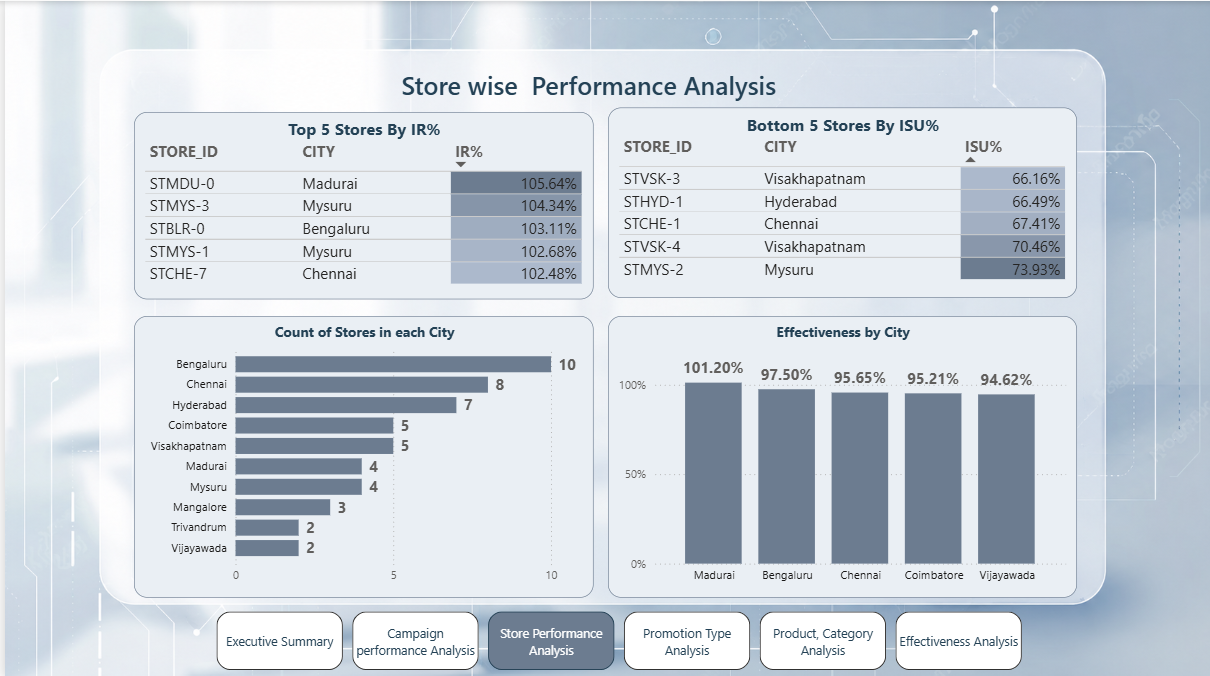

What the dashboard file says about the page in this screenshot:
{"tool":"powerbi","page":{"name":"Store Performance Analysis","canvas":[1280,720],"ordinal":2},"visuals":[{"type":"textbox","box":[211.6,47.7,822.3,65.2],"z":0},{"type":"tableEx","title":"Top 5 Stores By IR%","fields":{"Values":["DIM_STORES.STORE_ID","DIM_STORES.CITY","FACT_EVENTS.IR%"]},"box":[136,117.2,487.6,198.4],"z":1000},{"type":"clusteredBarChart","title":"Count of Stores in each City","fields":{"Category":["DIM_STORES.CITY"],"Y":["CountNonNull(DIM_STORES.STORE_ID)"]},"box":[136.1,334.5,487.6,298.6],"z":2000},{"type":"tableEx","title":" Bottom 5 Stores By ISU%","fields":{"Values":["DIM_STORES.STORE_ID","DIM_STORES.CITY","FACT_EVENTS.ISU%"]},"box":[638.7,113.4,497,202.2],"z":3000},{"type":"clusteredColumnChart","fields":{"Category":["DIM_STORES.CITY"],"Y":["FACT_EVENTS.Overall Effectiveness"]},"box":[638.7,334.5,497,298.6],"z":4000},{"type":"pageNavigator","box":[225,647,854,62],"z":5000}]}

Visuals, with their boxes in screenshot pixels (x1, y1, x2, y2), scaled from the page's 1280x720 canvas onto the 1210x676 screenshot:
textbox: crop(200, 45, 977, 106)
"Top 5 Stores By IR%" tableEx: crop(129, 110, 589, 296)
"Count of Stores in each City" clusteredBarChart: crop(129, 314, 590, 594)
" Bottom 5 Stores By ISU%" tableEx: crop(604, 106, 1074, 296)
clusteredColumnChart - DIM_STORES.CITY x FACT_EVENTS.Overall Effectiveness: crop(604, 314, 1074, 594)
pageNavigator: crop(213, 607, 1020, 666)
